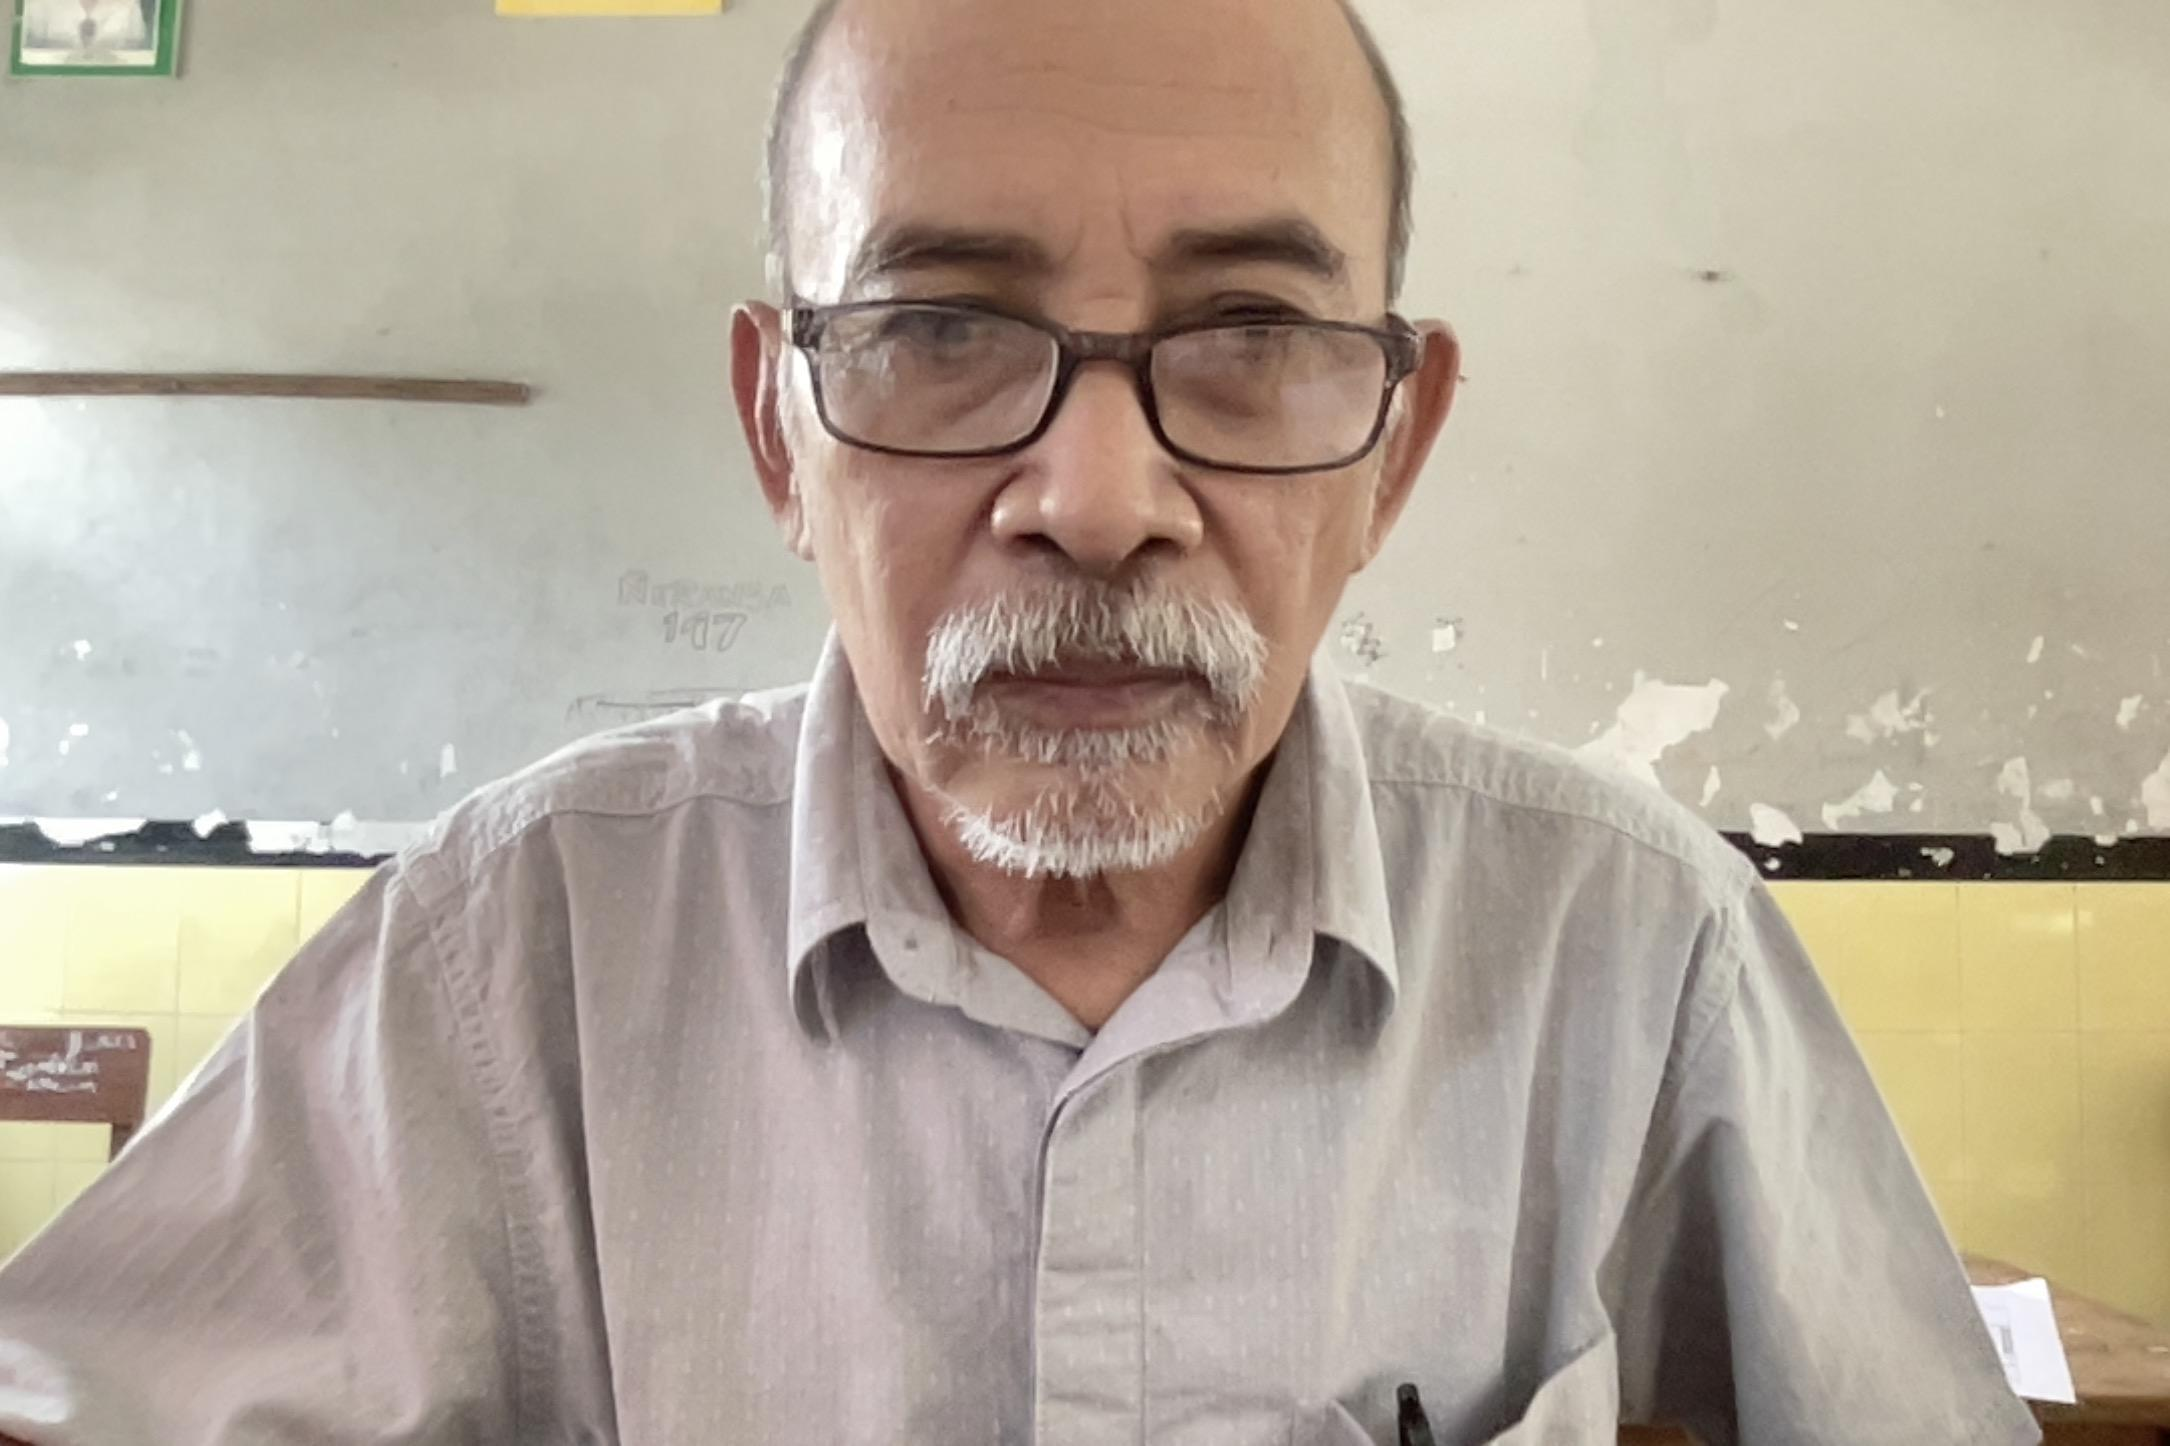good: (0, 0, 2073, 1446)
